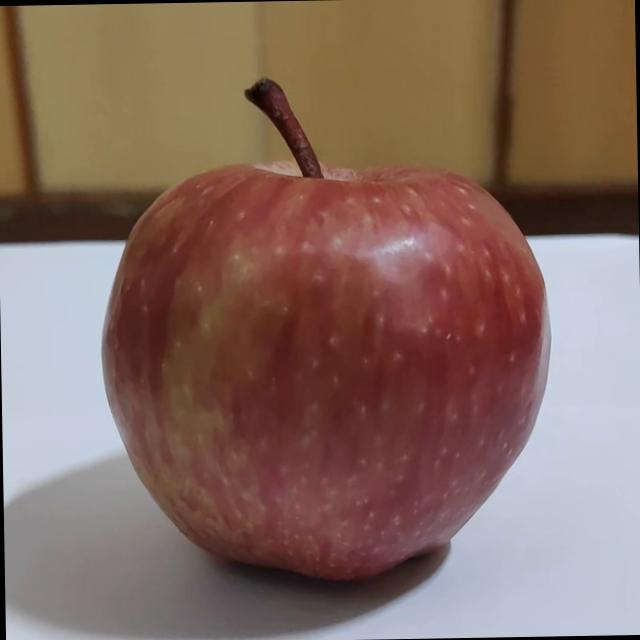apple: (92, 70, 560, 604)
